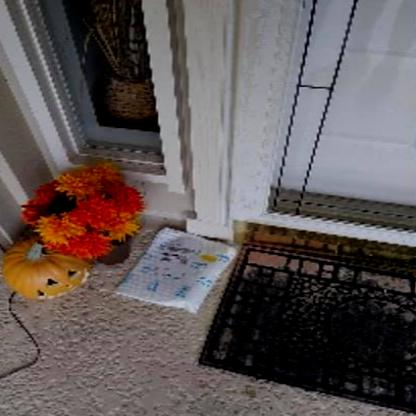plastic_bag: (112, 225, 236, 316)
